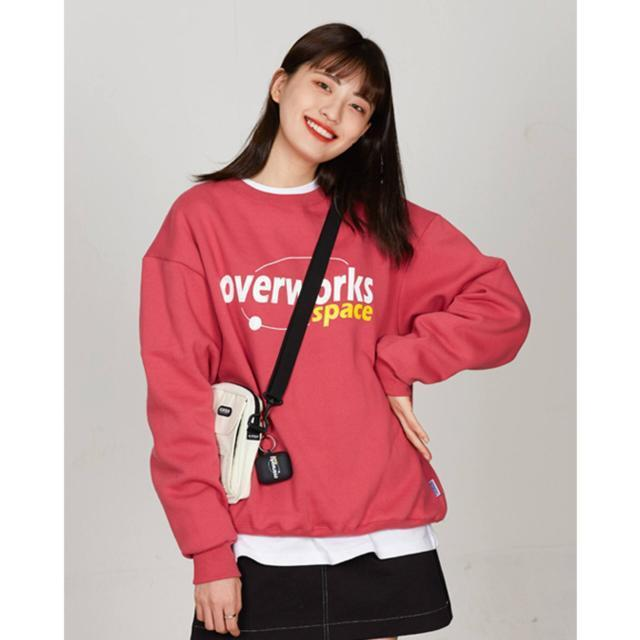short sleeve shirt: (230, 173, 444, 568)
skirt: (186, 553, 458, 640)
sweater: (138, 171, 534, 586)
